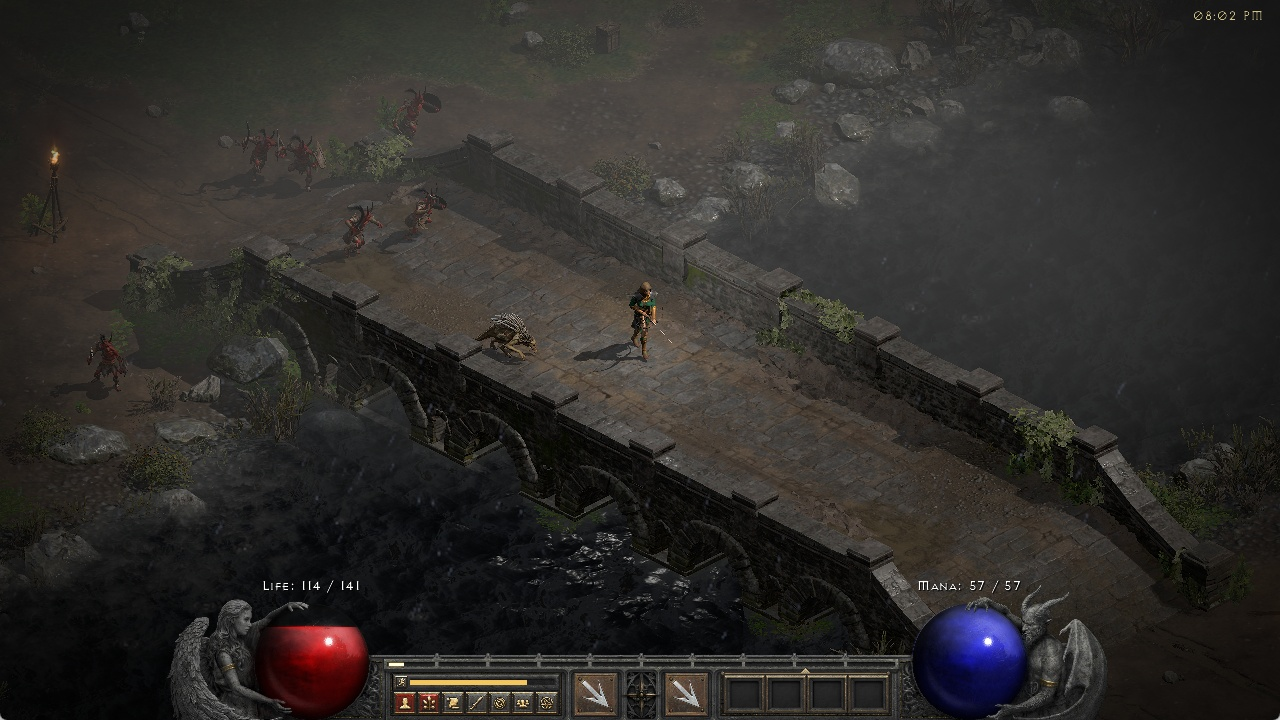fallen: (85, 329, 129, 395), (392, 90, 445, 141), (289, 131, 327, 191), (342, 198, 385, 251), (241, 125, 282, 179), (409, 182, 450, 233)
